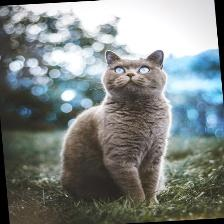kedo: (65, 50, 171, 206)
